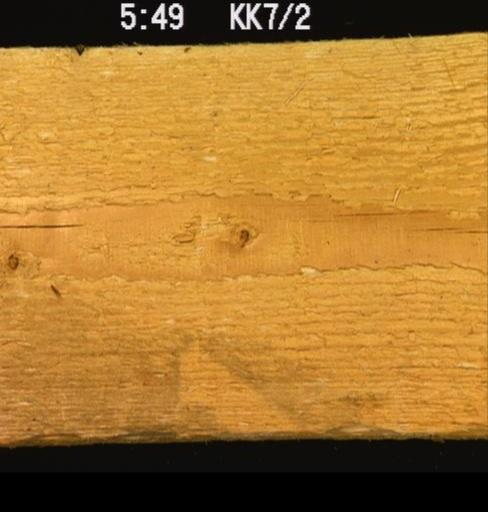dry_knot: (2, 247, 20, 272)
split: (329, 207, 400, 218), (0, 221, 88, 229), (419, 224, 486, 232)
wave: (0, 426, 486, 440)
